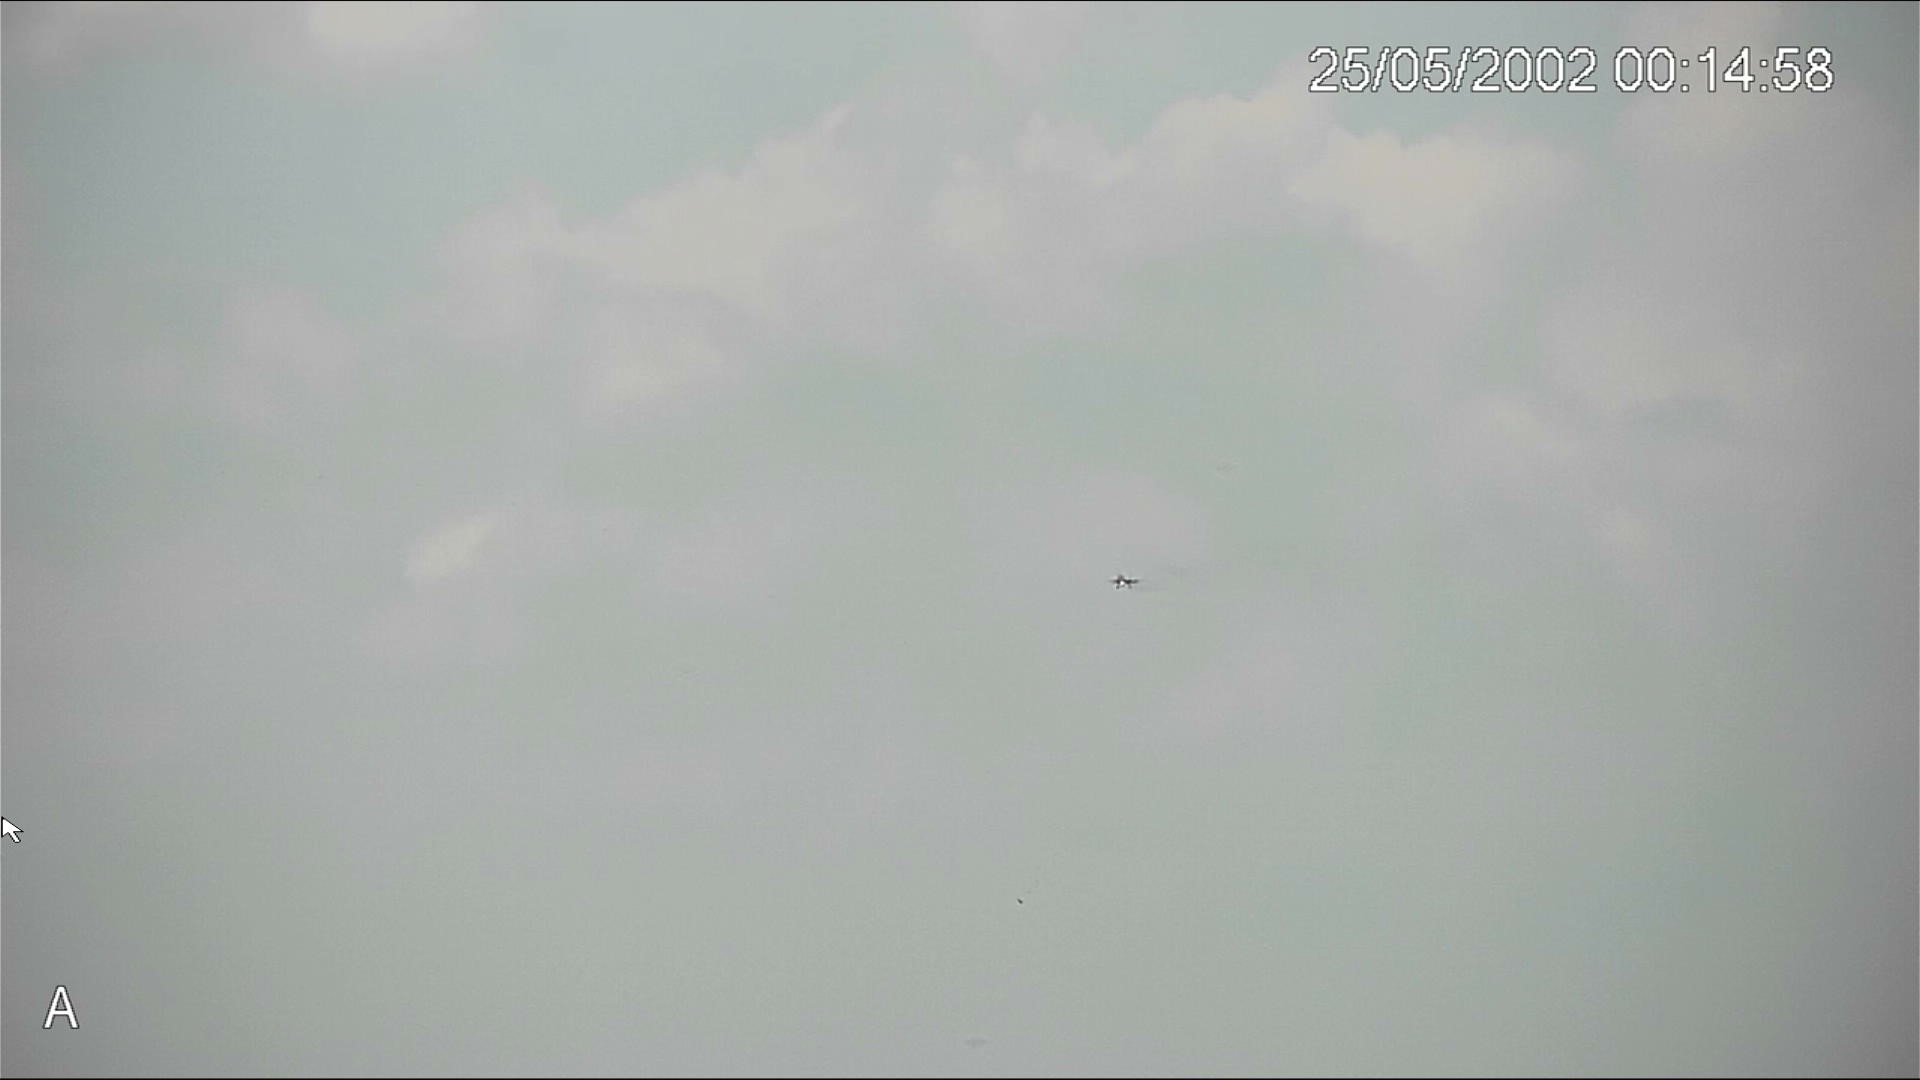SU_30: (1106, 572, 1141, 589)
